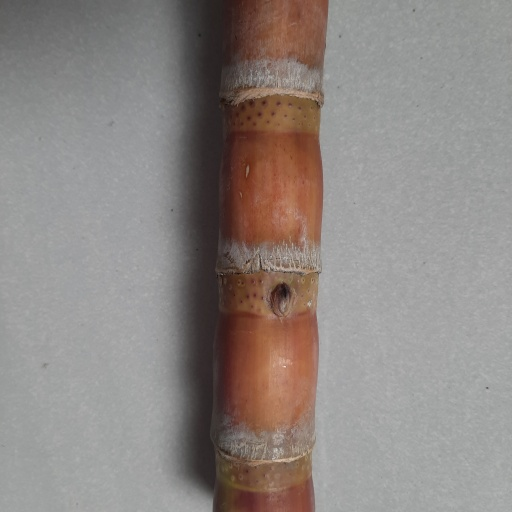Bud: (270, 283, 291, 319)
